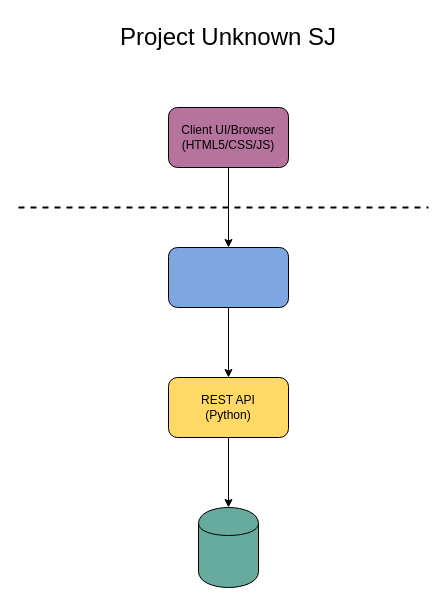
Some shapes in this 447 by 605 pixel diagram are drawn without their labels. The box of each missing label's shape, as (x1, y1, x2, y2) in pixels:
MySQL: (198, 506, 258, 588)
Web Proxy (nginx): (168, 246, 288, 308)
